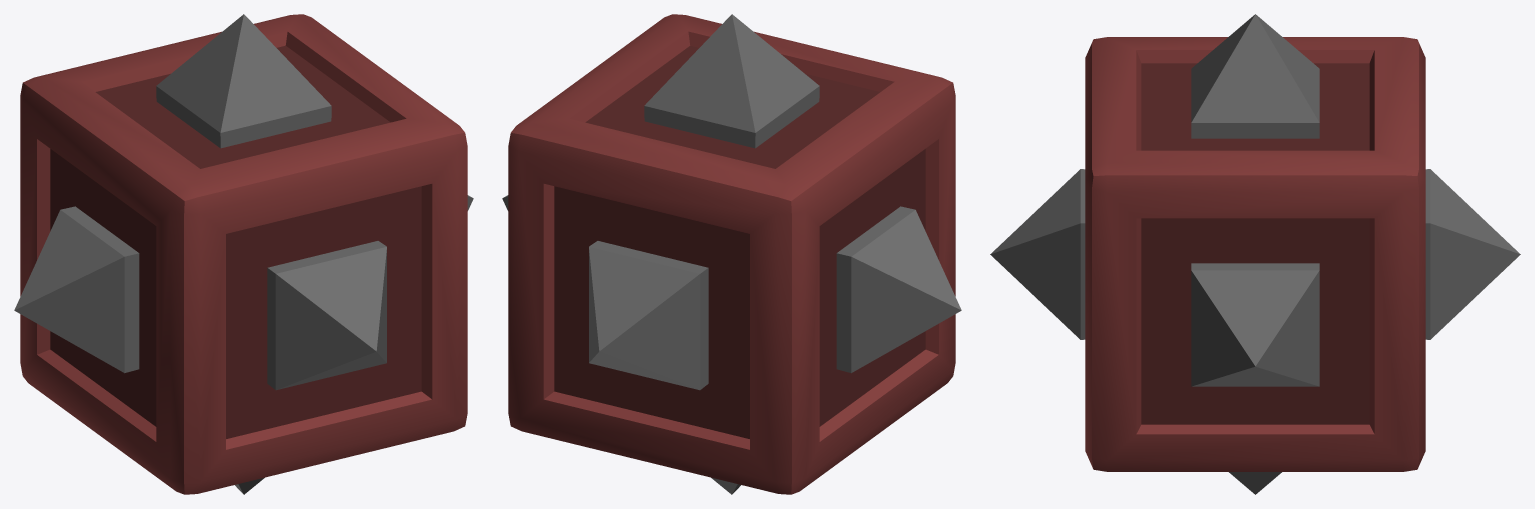
File: cube_spikes.glb
The picture shows the model from 3 angles, left to right: view 1: azimuth 30°, elevation 25°; view 2: azimuth 150°, elevation 25°; view 3: azimuth 270°, elevation 25°; orthographic projection.
Visible parts, largest first — view 1: Cube_Spikes; view 2: Cube_Spikes; view 3: Cube_Spikes.
Part boxes in pixels (<box>): Cube_Spikes: <box>14,14,473,494</box>; Cube_Spikes: <box>502,14,961,494</box>; Cube_Spikes: <box>990,14,1520,494</box>.
Size of the model in its own units: 3.15 by 3.15 by 3.15.
